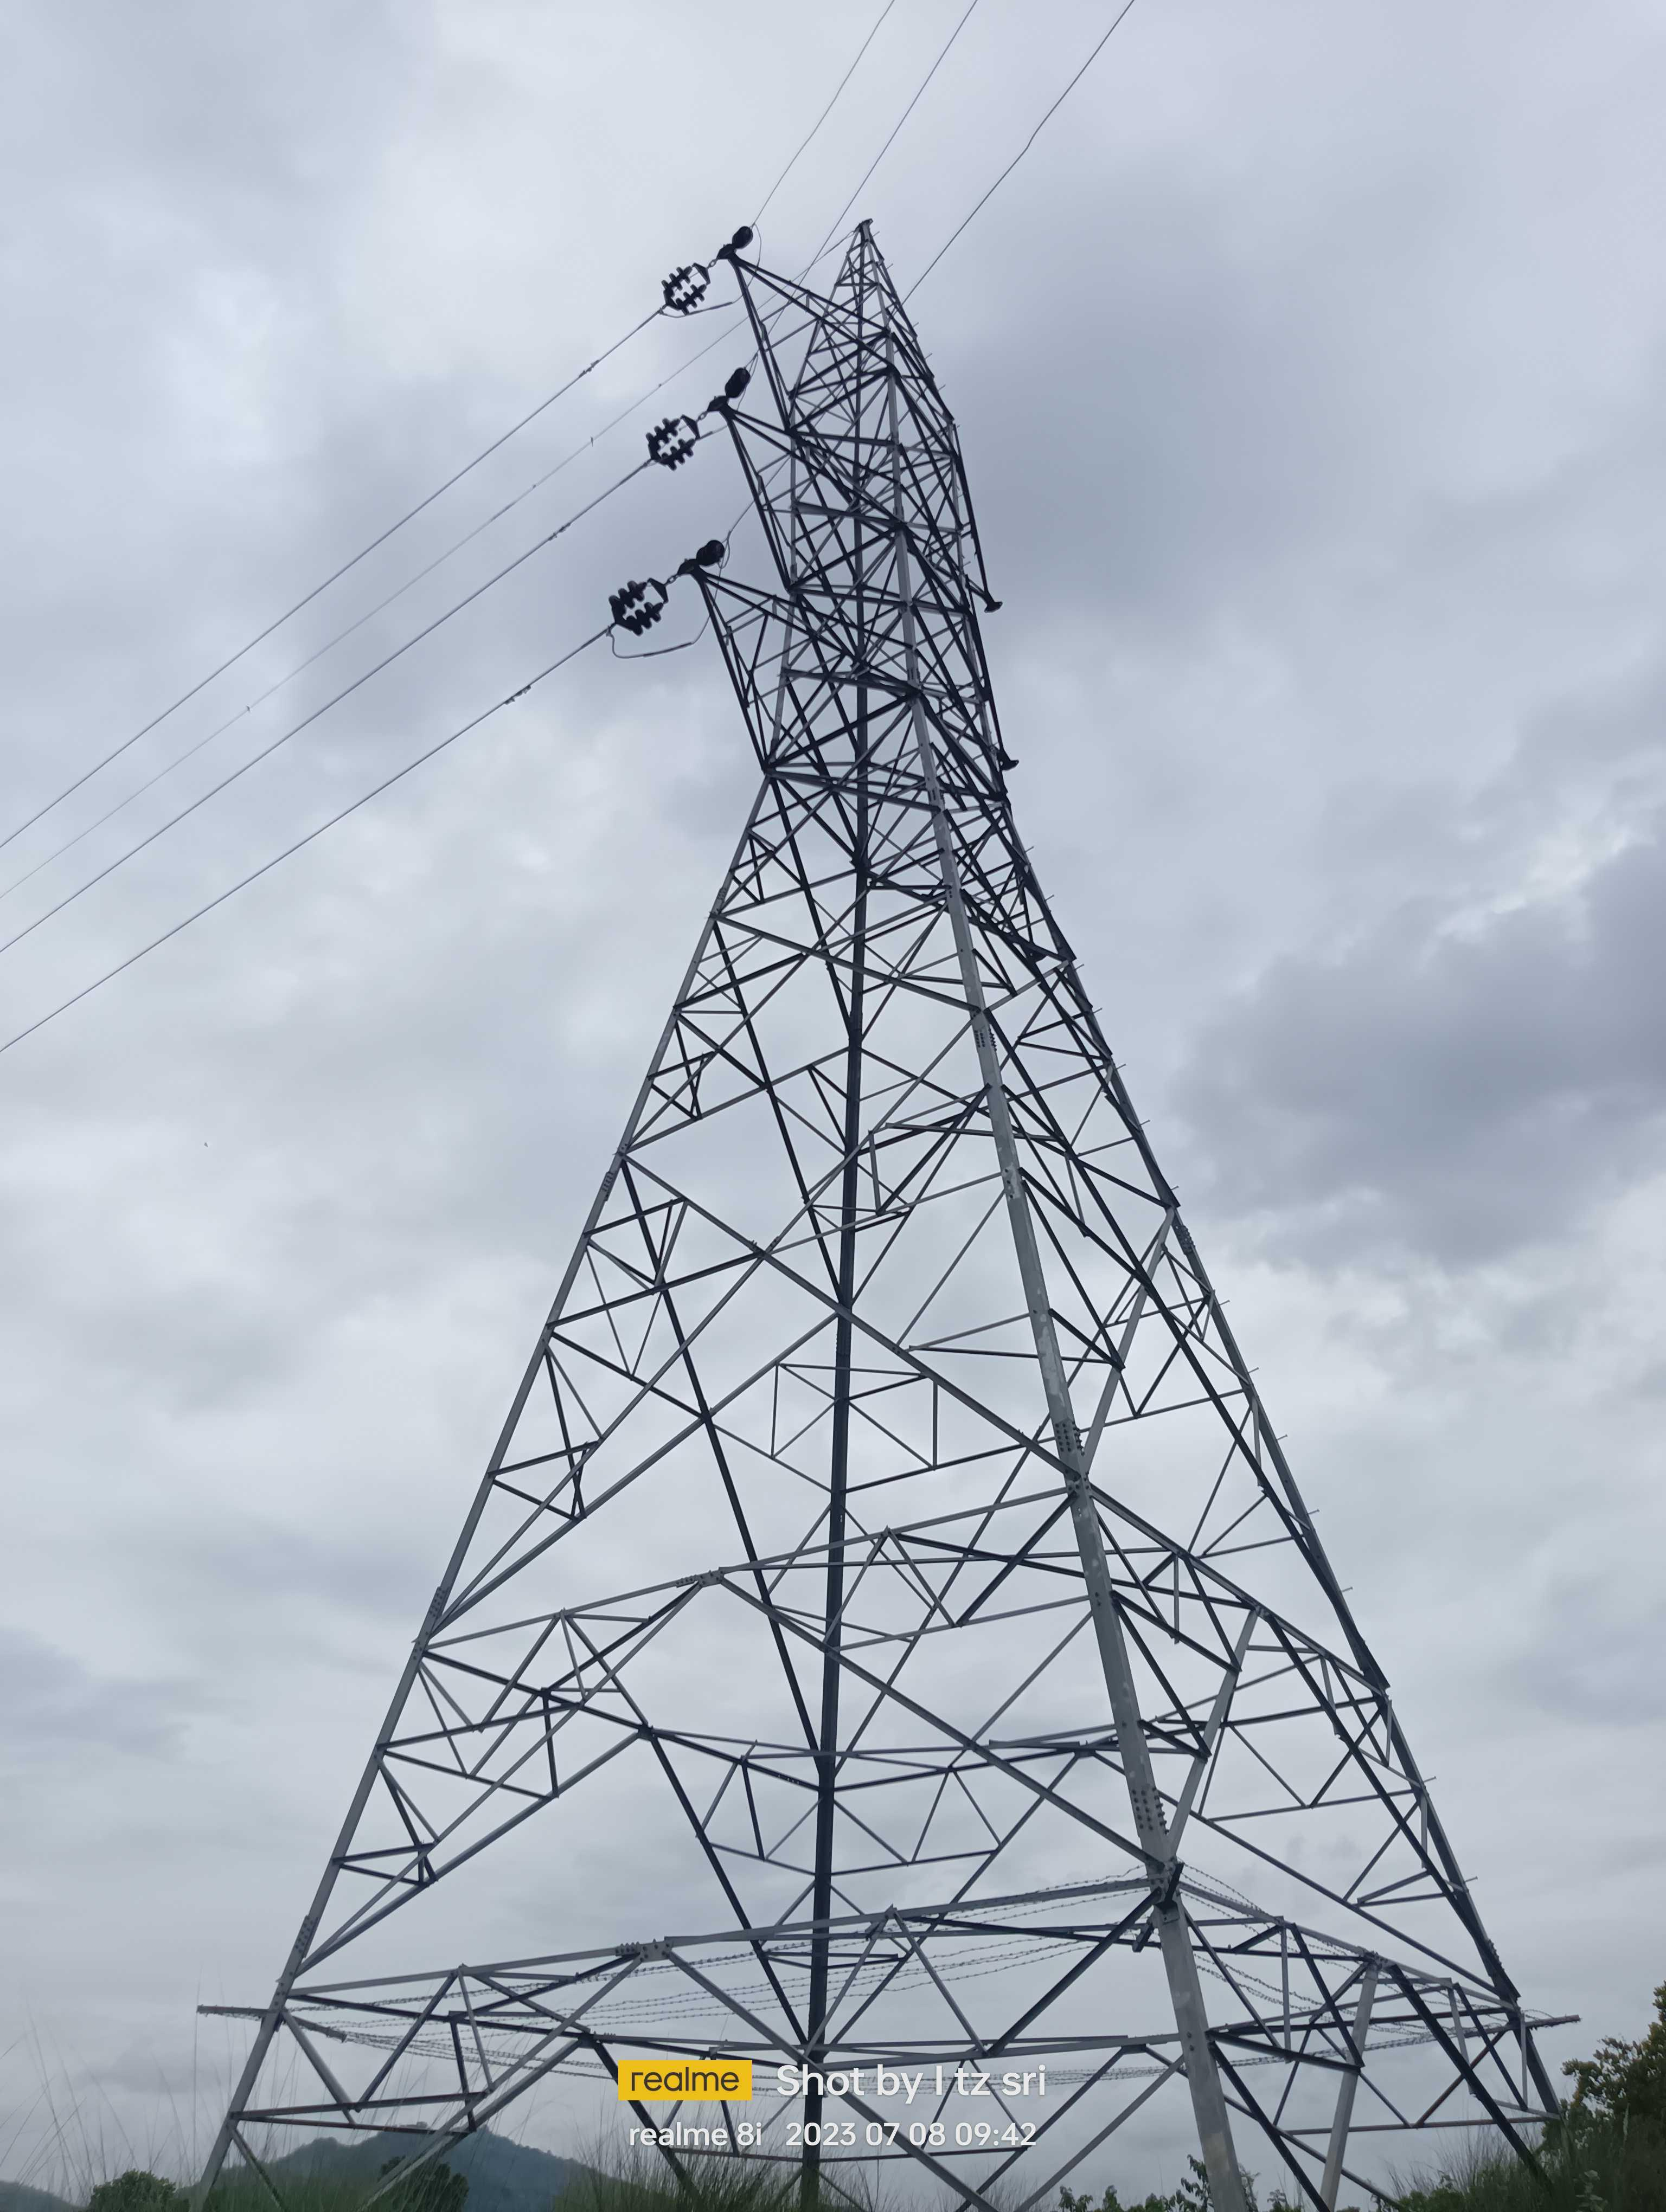GSM Antenna: (260, 182, 1540, 1994)
